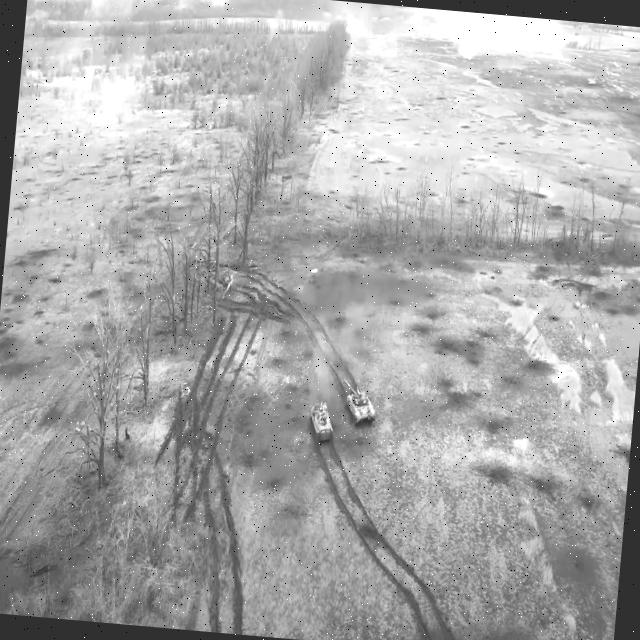AIFV: (307, 396, 338, 446)
MBT: (339, 375, 379, 430)
